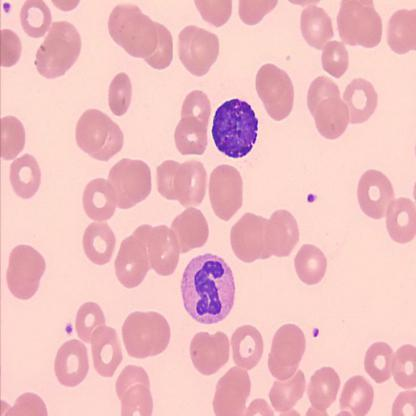Basophil: (210, 96, 260, 162)
